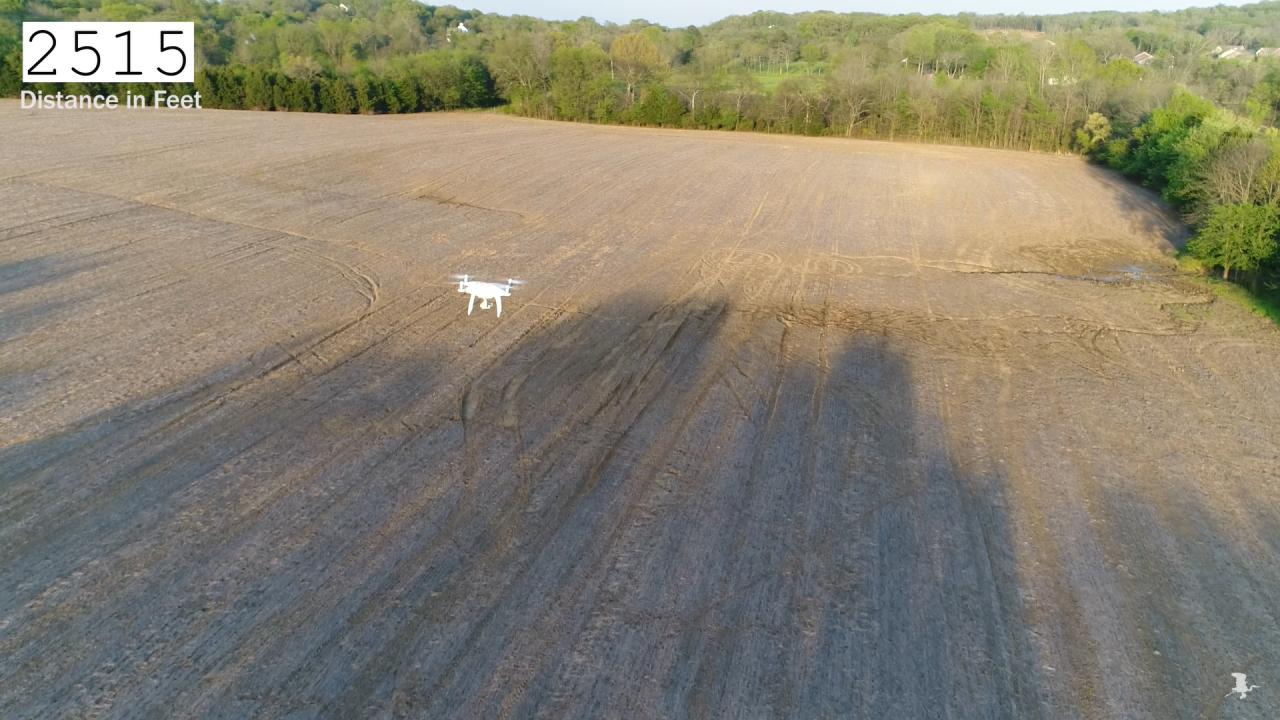Drone: (439, 265, 535, 326)
